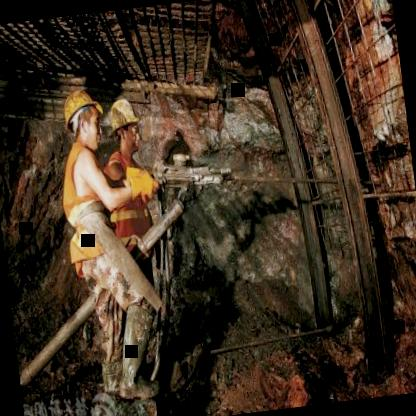helmet: (53, 80, 111, 156), (103, 91, 147, 162)
